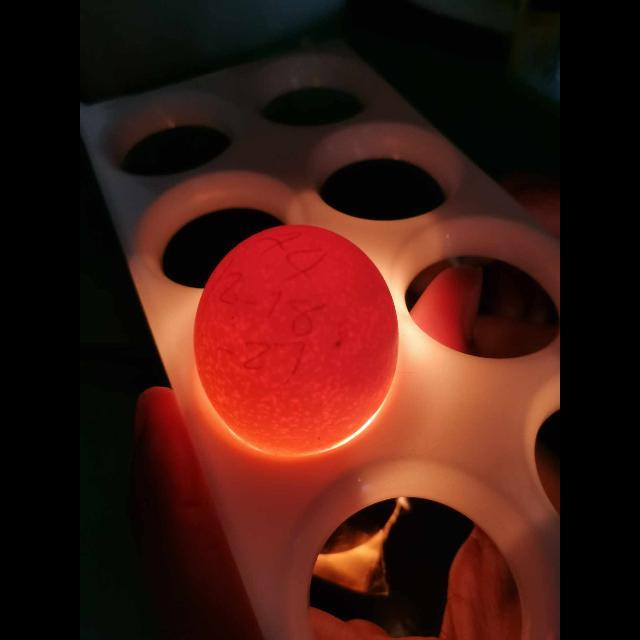Infertile: (190, 222, 398, 443)
